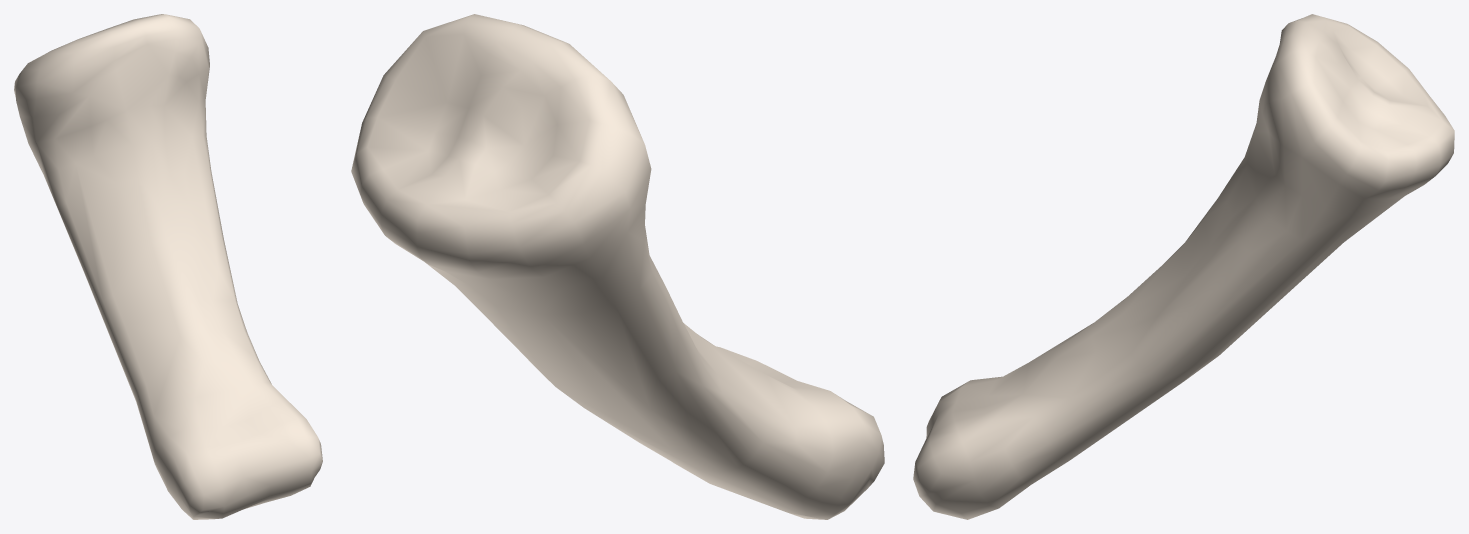
The model's file is right_digit_4_middle.glb.
3 renders of one model, left to right at view 1: azimuth 30°, elevation 25°; view 2: azimuth 150°, elevation 25°; view 3: azimuth 270°, elevation 25°, orthographic. The views are drawn at different scales.
Parts seen in each view (by area): view 1: Middle phalanx of 4th finger.r; view 2: Middle phalanx of 4th finger.r; view 3: Middle phalanx of 4th finger.r.
Boxes of the visible parts, bbox=[...] form: Middle phalanx of 4th finger.r: bbox=[14, 14, 322, 519]; Middle phalanx of 4th finger.r: bbox=[351, 14, 884, 519]; Middle phalanx of 4th finger.r: bbox=[913, 14, 1454, 519].
Bounding box in the file's own units: 0.0115 × 0.0245 × 0.0247.
